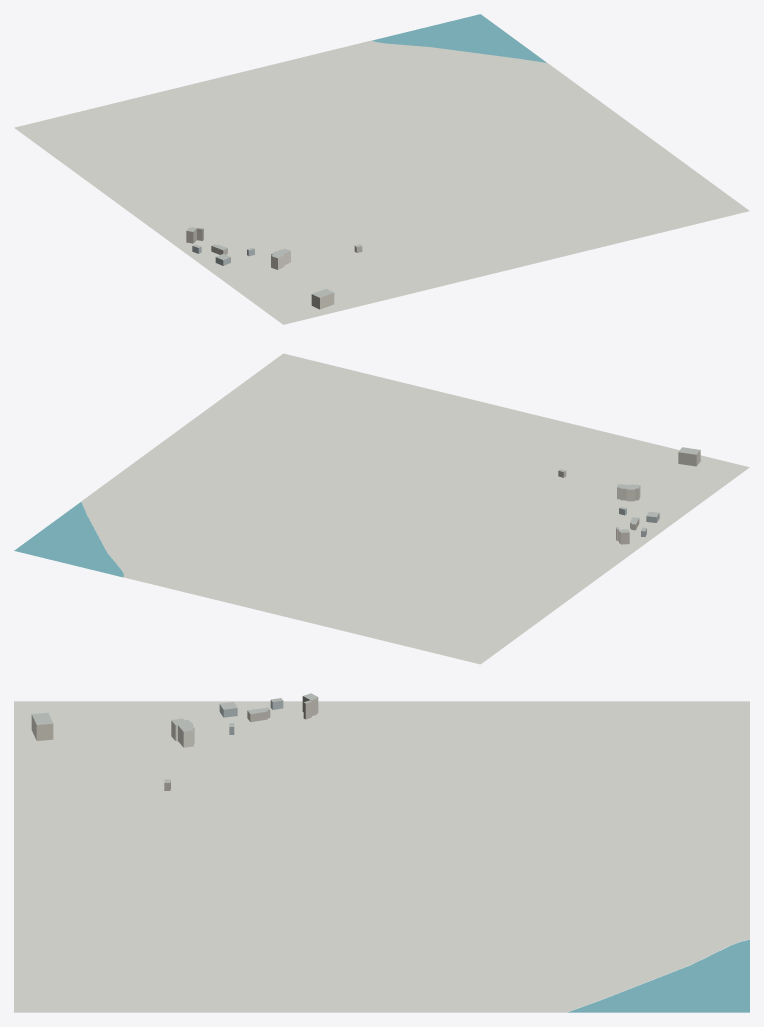
3 views of the same model, one above another, from view 1: azimuth 30°, elevation 25°; view 2: azimuth 150°, elevation 25°; view 3: azimuth 270°, elevation 25° (orthographic). The views are drawn at different scales.
Visible parts, largest first — view 1: city; view 2: city; view 3: city.
Boxes of the visible parts, x1,y1,x2,y2 form: city: (14,14,749,324); city: (14,353,749,664); city: (14,693,749,1012).
Bounding box in the file's own units: 500 × 12.18 × 500.
